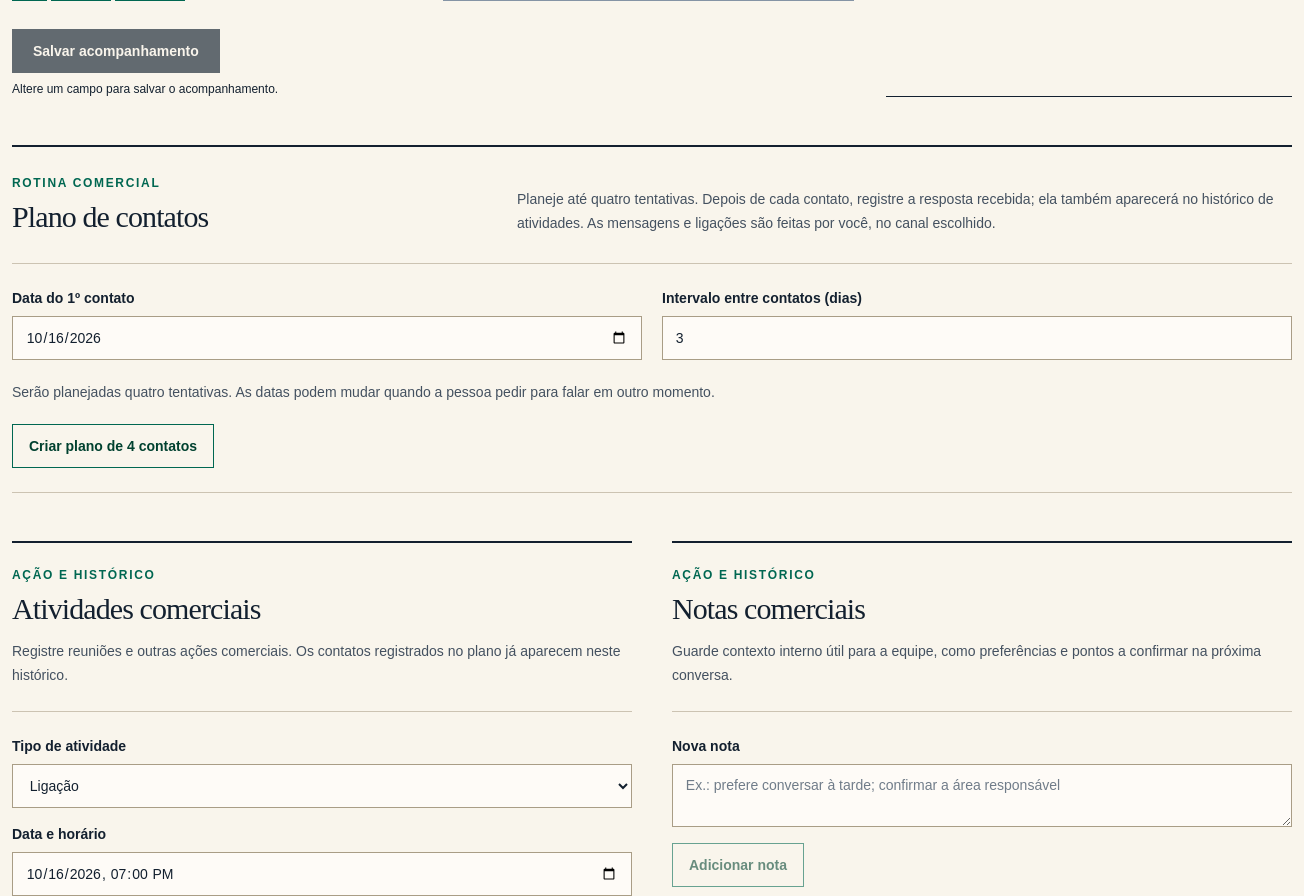
it: commercial workspace detail page › stops the private workspace when cadence POST loses the session
(page scrolled)
Click the button "Criar plano de 4 contatos" at {"x": 113, "y": 446}, box [12,424,214,468]
(page scrolled)
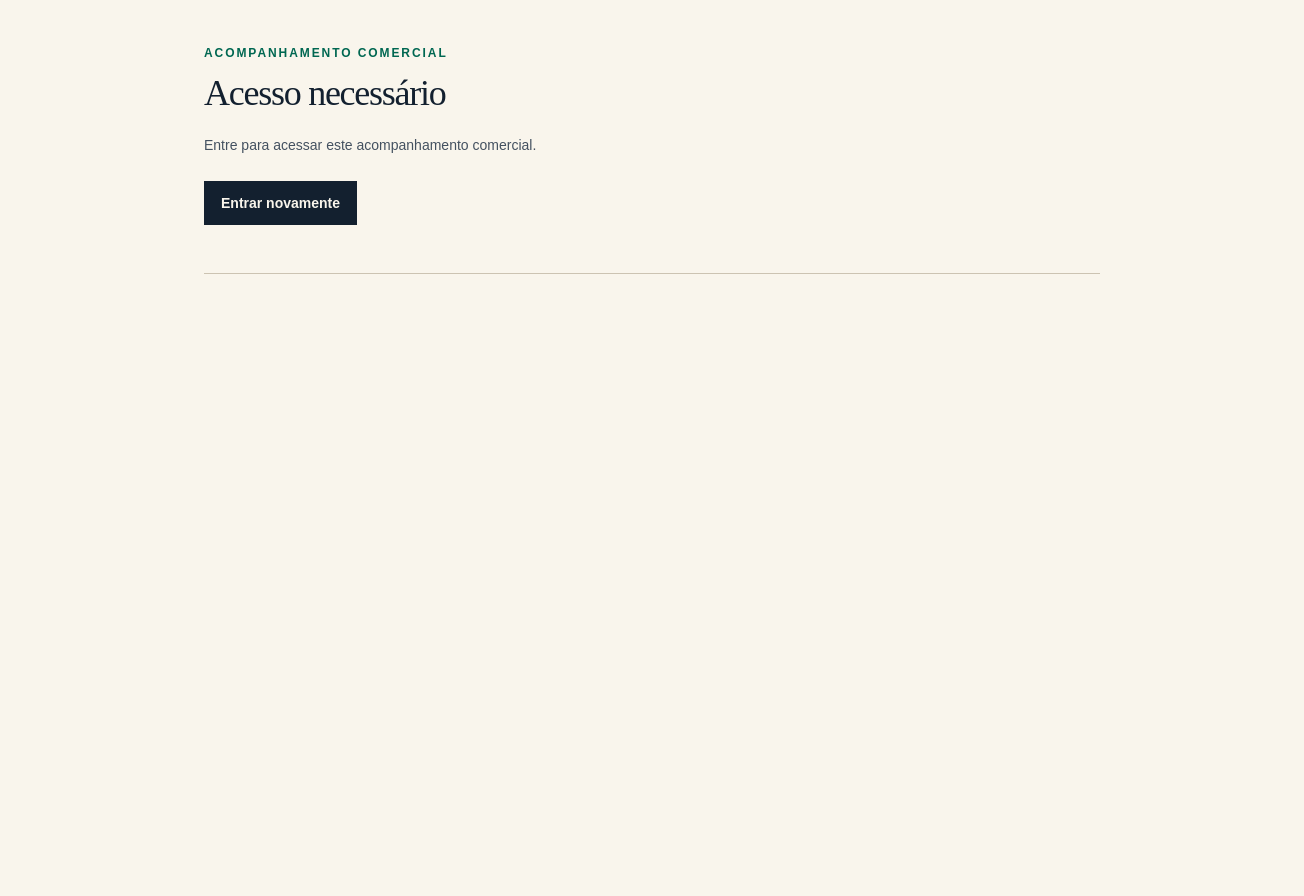
Expected: the text "Entre para acessar este acompanhamento comercial." is shown, [204,137,536,153]
